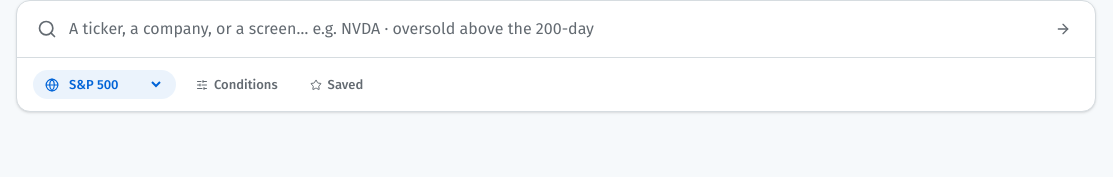
SmartSearchBox routing › shows an ask-note for an AMBIGUOUS result (never guesses)
Replace the text in the field with test id "smart-search-input" with "do something" at (554, 29), box [69,17,1039,41]
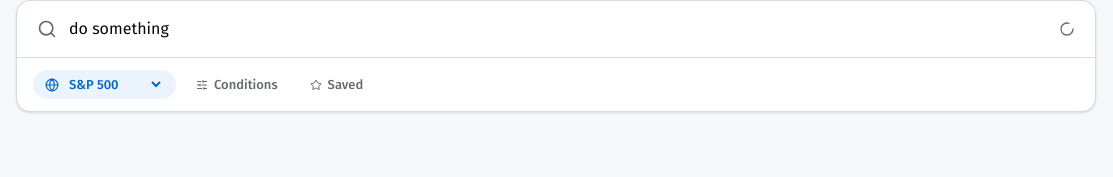
Press Enter in the field with test id "smart-search-input", box [69,17,1047,41]
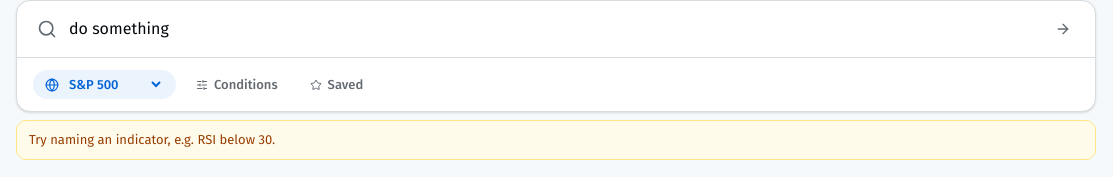
Expected: the text "Try naming an indicator, e.g. RSI below 30." is shown, [16,120,1096,160]
Expected: the text with test id "smart-search-note" shows "indicator", [29,132,275,147]
